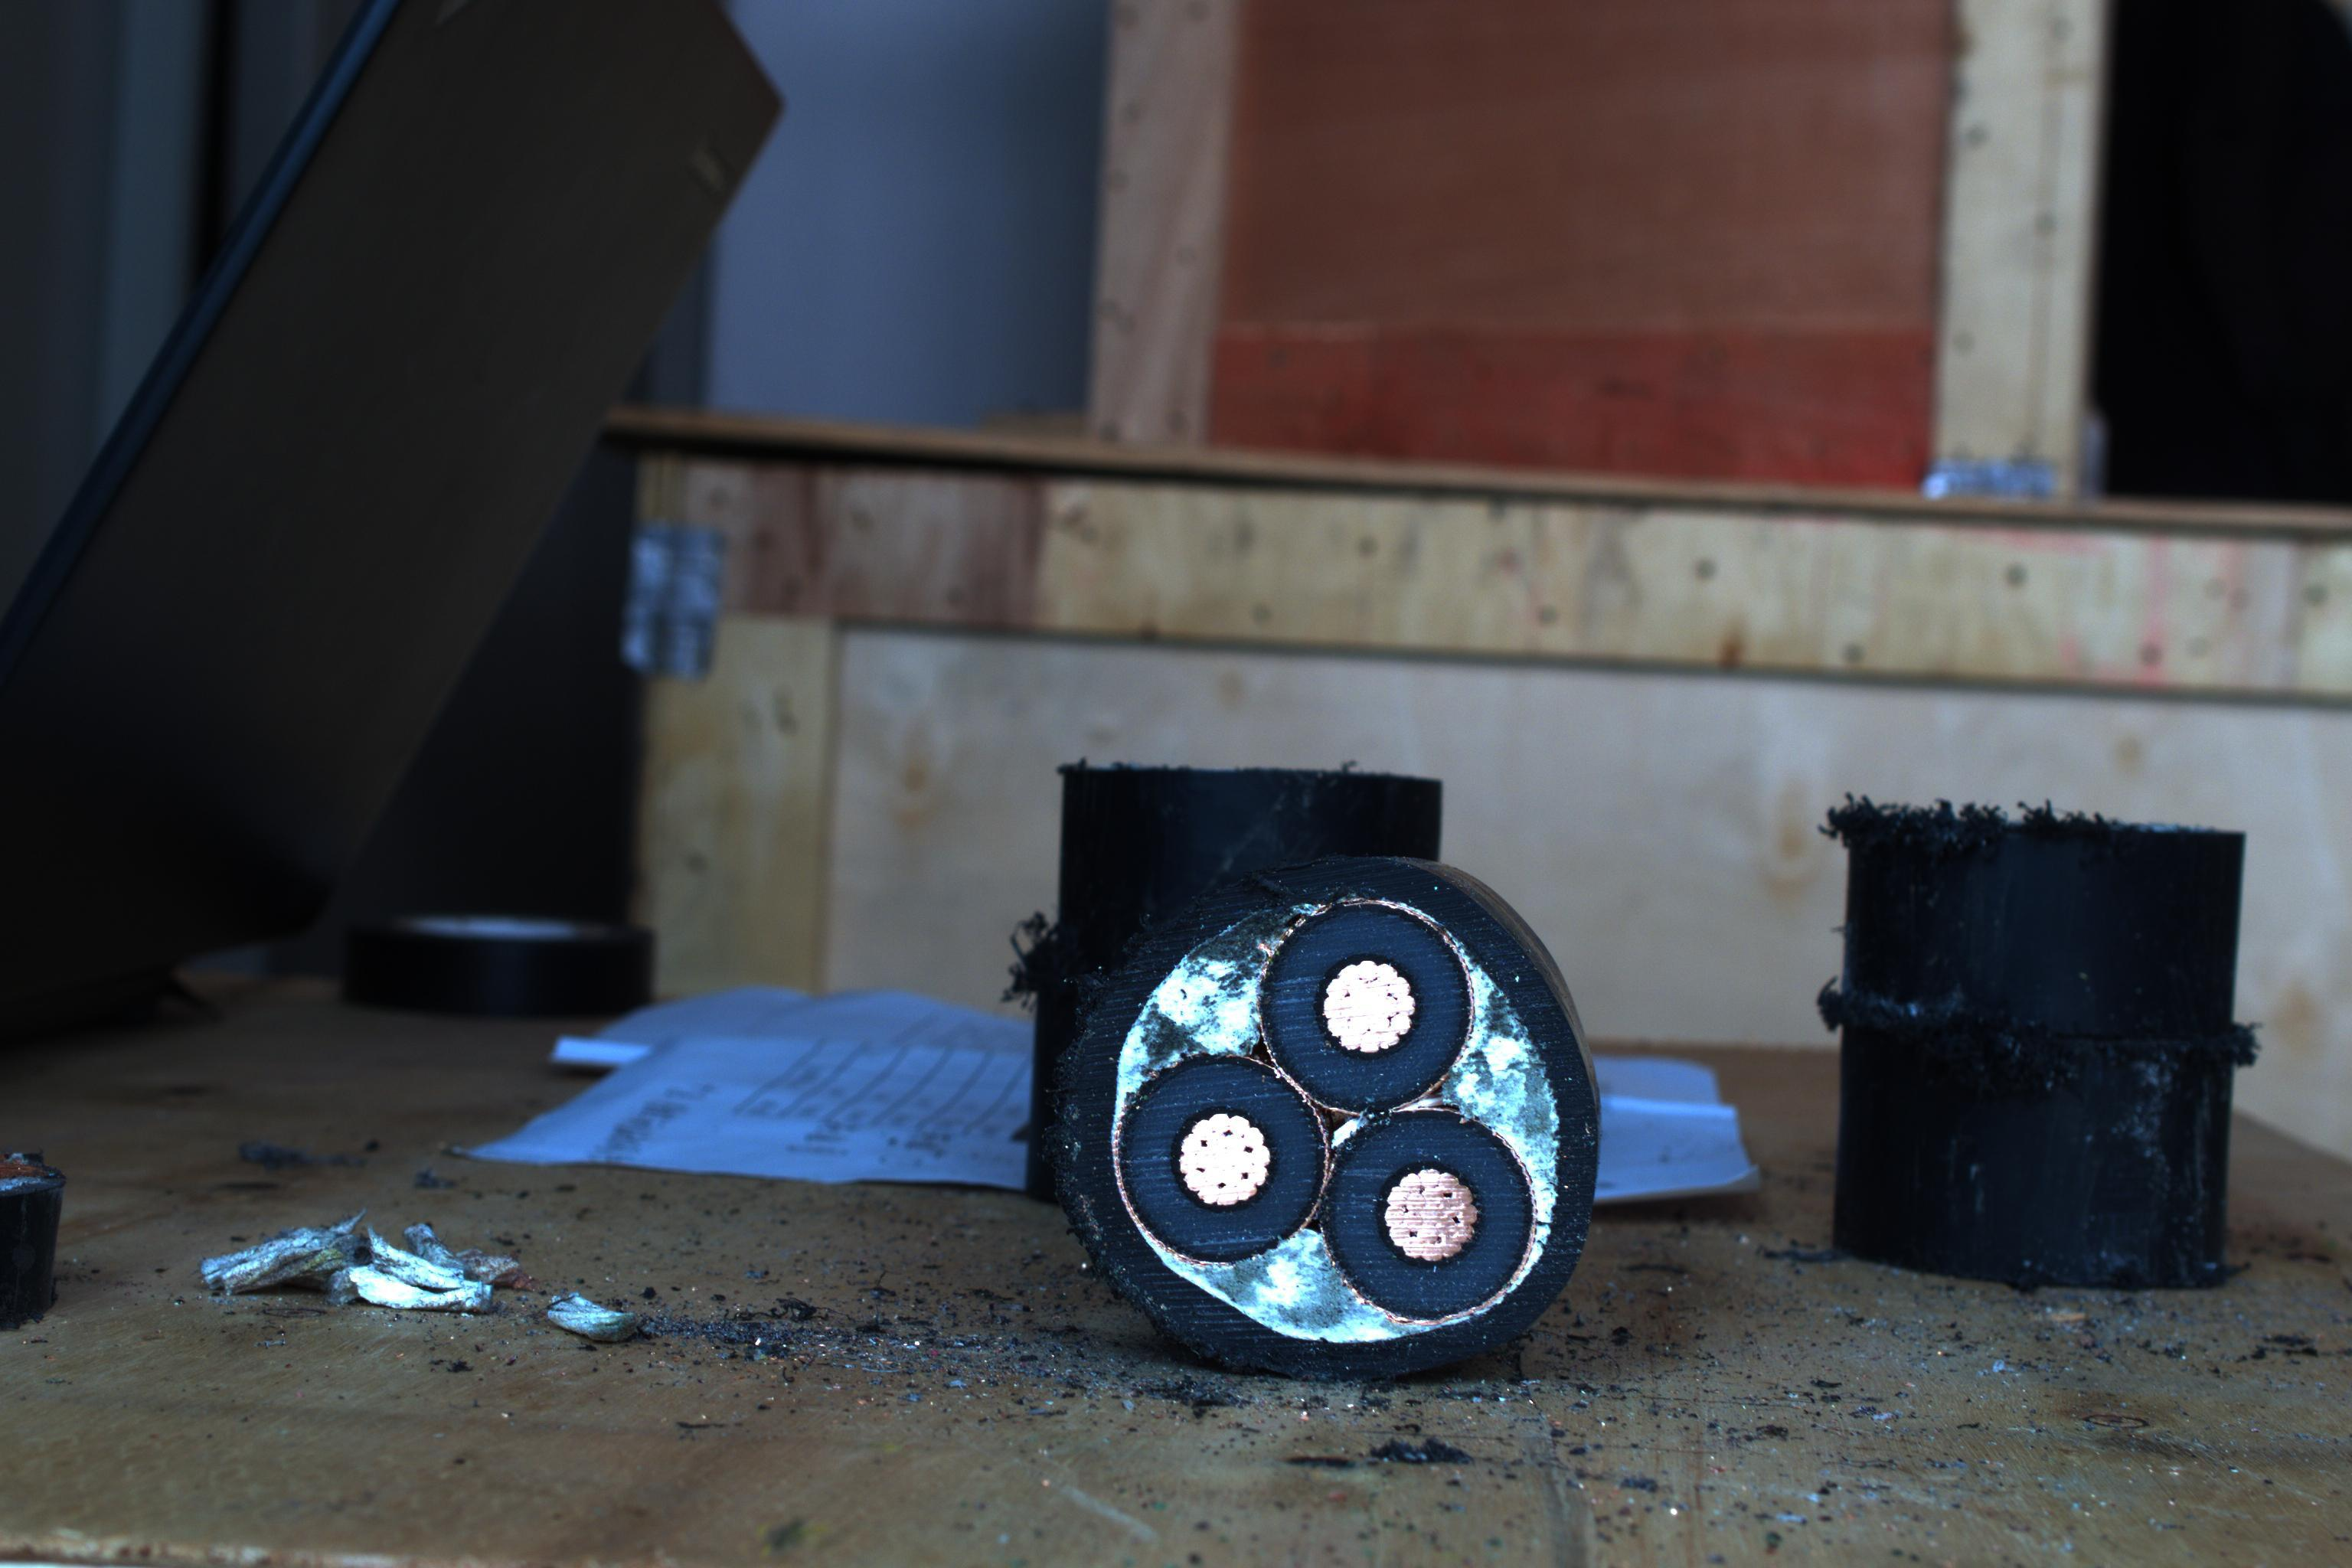YJV_8.7_10kV_3x70: (1048, 875, 1612, 1381)
